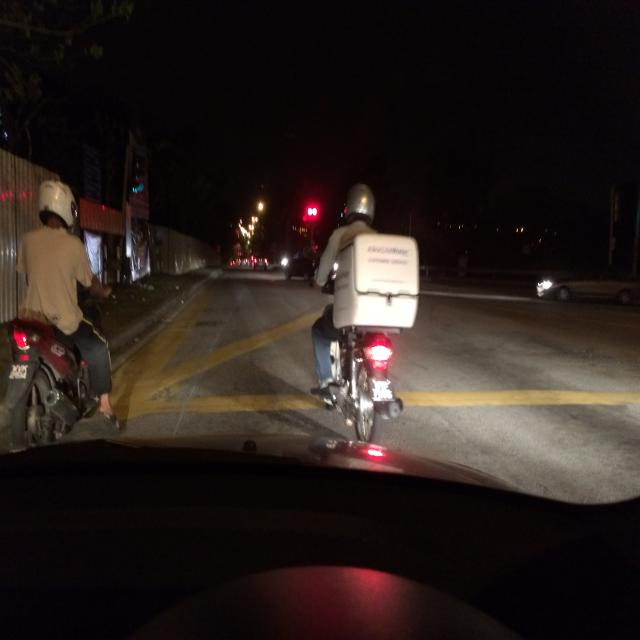Motorbike: (312, 233, 436, 461), (4, 314, 128, 448)
People: (14, 166, 145, 444), (301, 167, 405, 414)
car: (528, 257, 638, 327), (278, 237, 332, 291), (244, 250, 276, 280)
